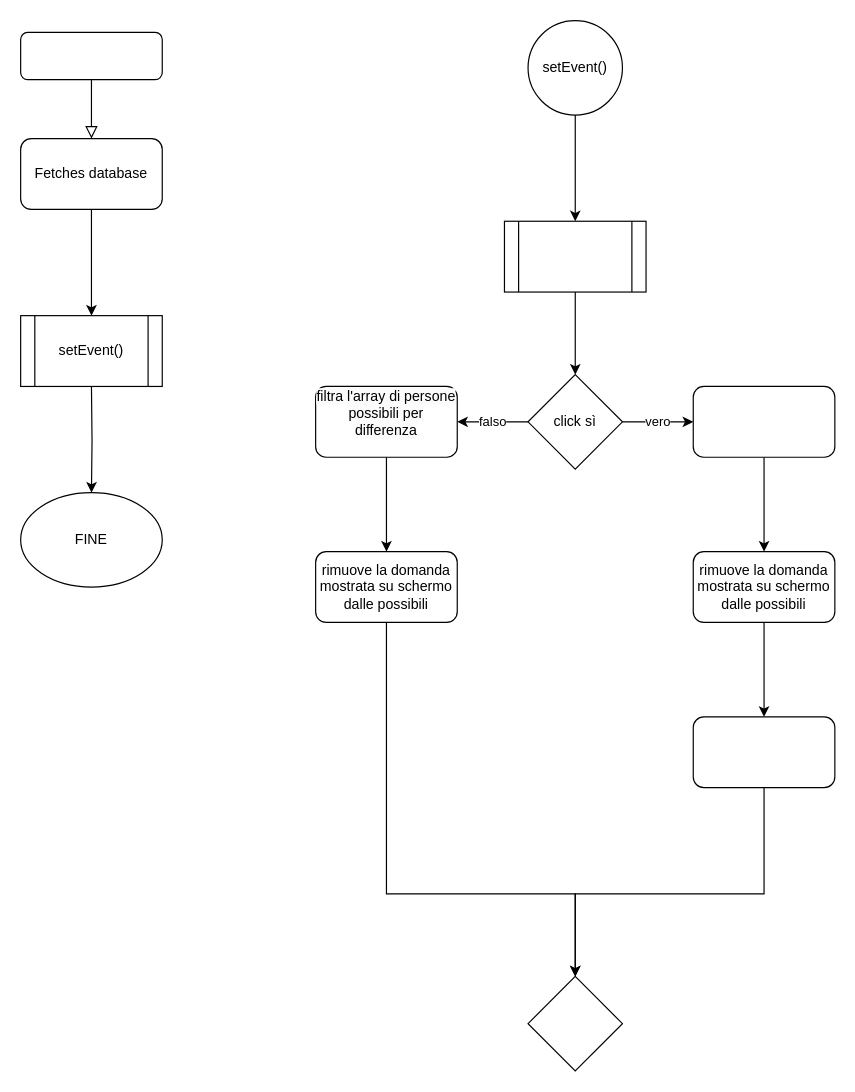
The diagram is 855 pixels wide and 1092 high, and some of its shapes have lost their labels. Here are the shapes that lost their labels. From the top down, the centre of each, then its label:
At point 90,55: "Server serves HTML, JS and CSS".
At point 574,256: "mostra una domanda".
At point 763,421: "filtra l'array di persone possibili per uguaglianza".
At point 763,752: "filtra l'array di domande per evitare ridondanze".
